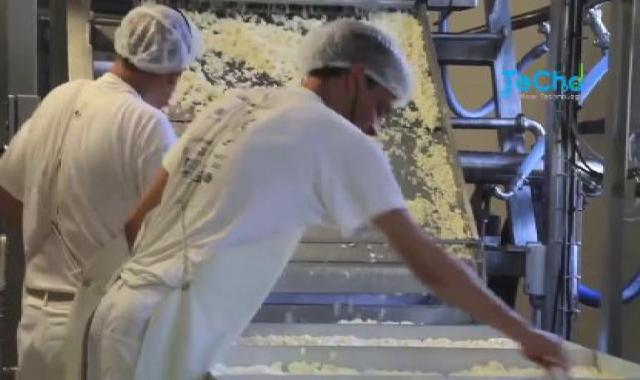hairnet: (290, 14, 421, 110), (108, 6, 206, 76)
